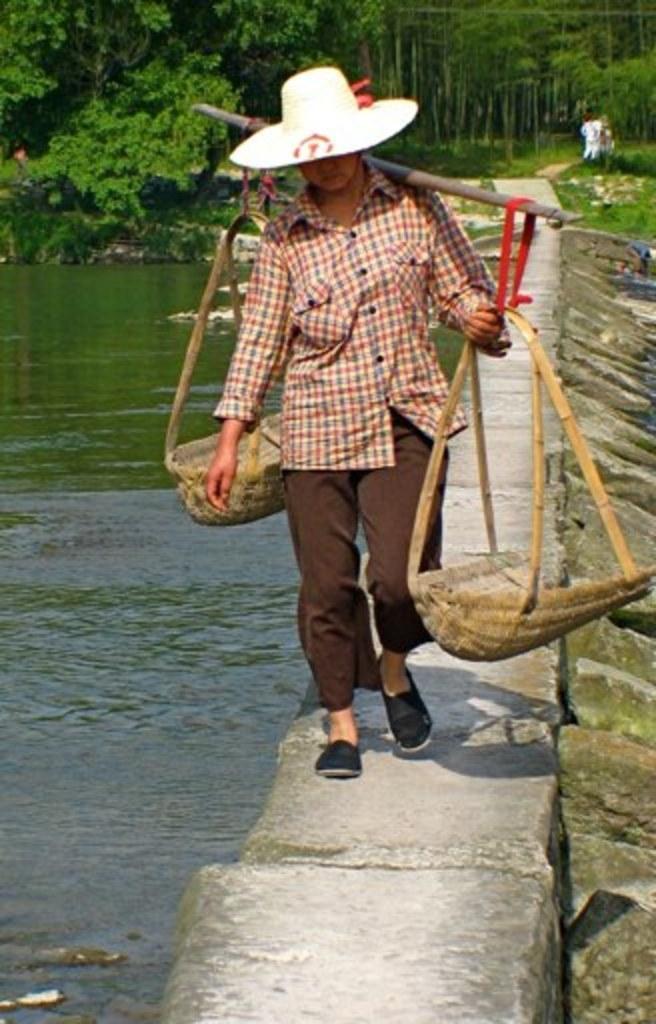Hat: (224, 72, 420, 172)
